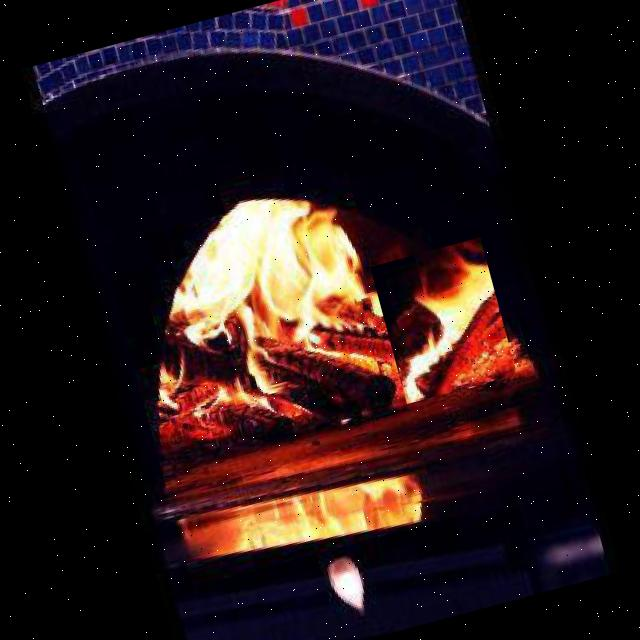fire: (129, 180, 372, 394), (369, 236, 516, 404)
